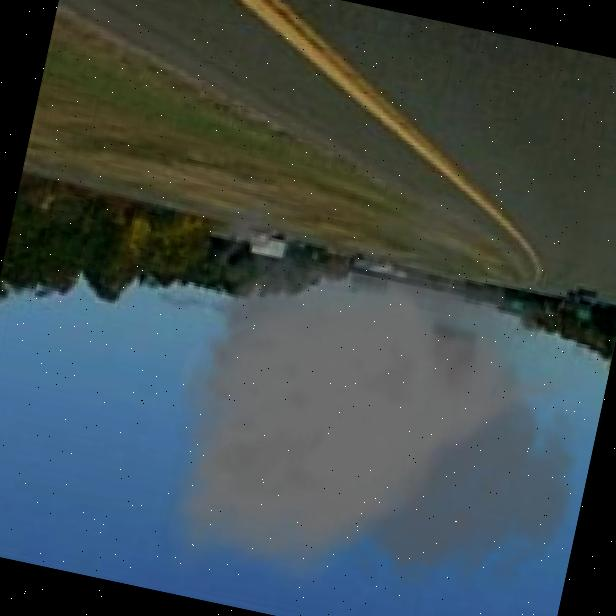smoke: (136, 146, 616, 616)
